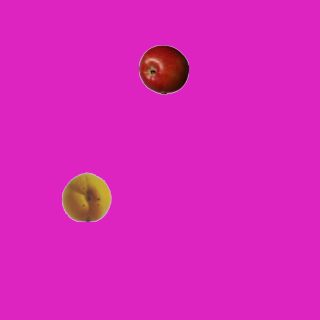Apple Braeburn: (138, 44, 188, 94)
Peach 2: (61, 171, 111, 221)
